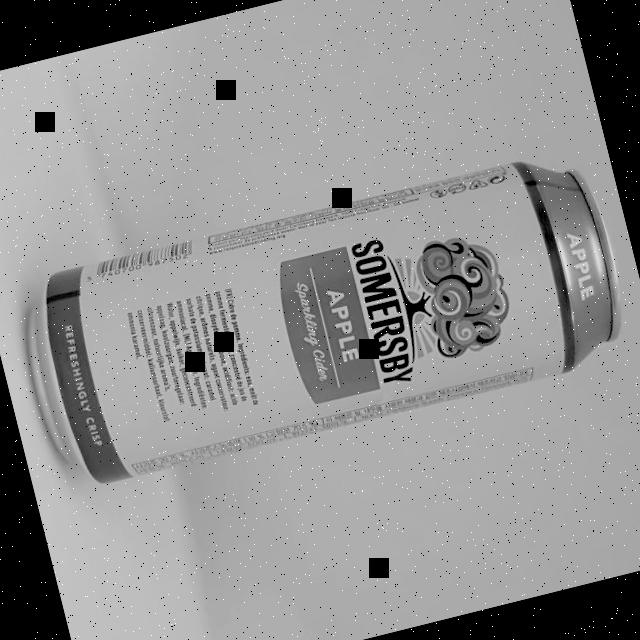can: (7, 140, 637, 498)
